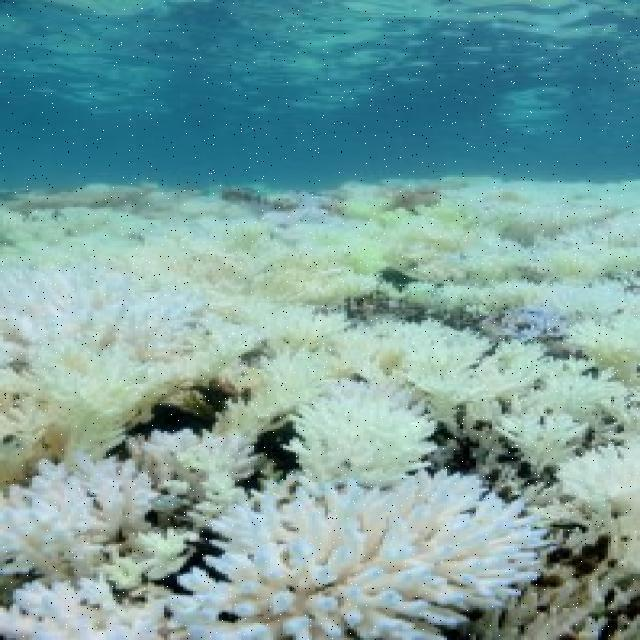Bleached: (1, 181, 640, 640), (191, 466, 551, 640), (1, 247, 263, 415), (1, 441, 174, 563), (259, 377, 448, 482)
